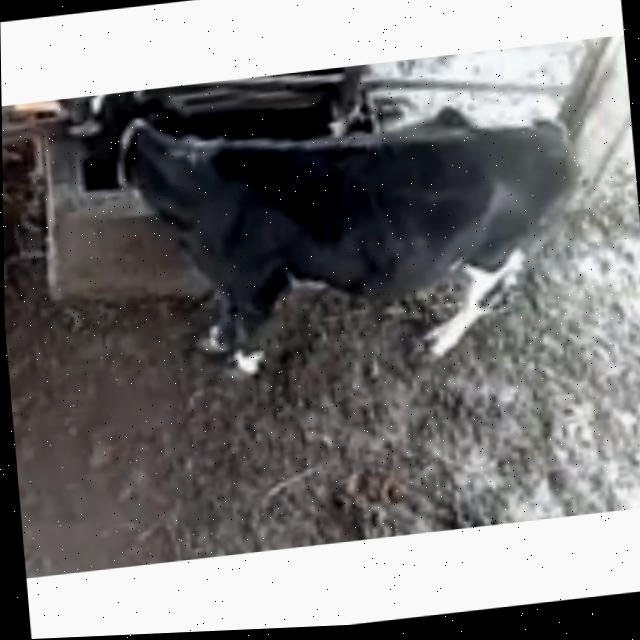drink: (55, 79, 233, 209)
